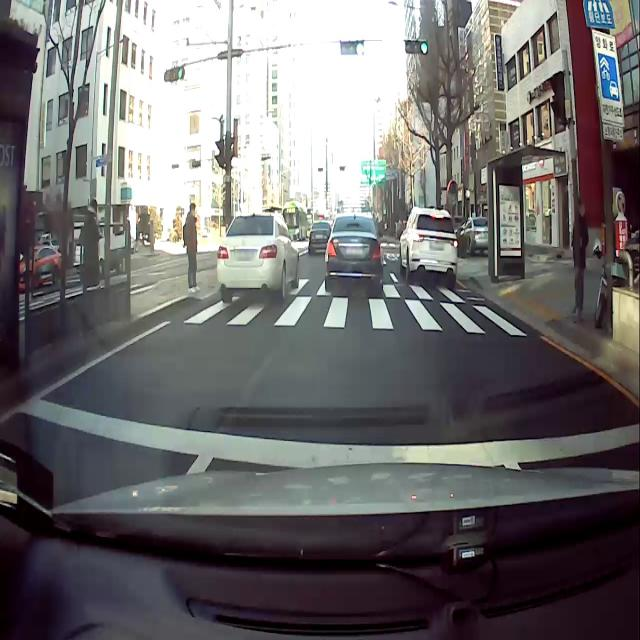Green Light: (354, 40, 364, 56), (420, 41, 428, 56)
